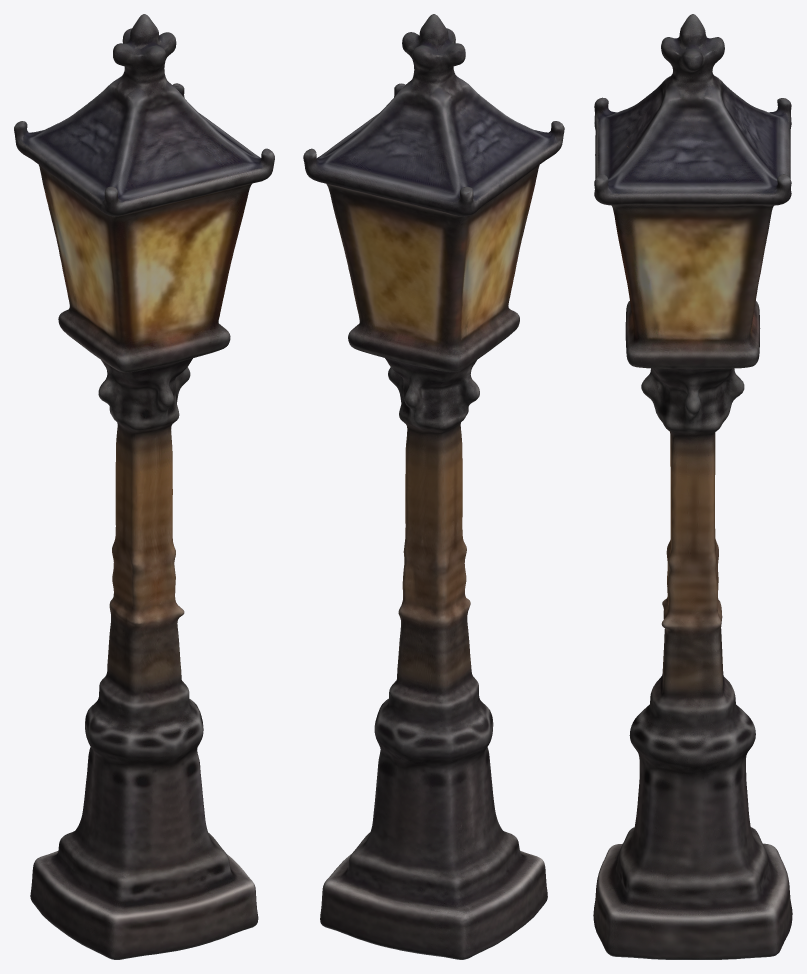
File: Estrutura_md_12.glb
The picture shows the model from 3 angles, left to right: view 1: azimuth 30°, elevation 25°; view 2: azimuth 150°, elevation 25°; view 3: azimuth 270°, elevation 25°; orthographic projection.
Size of the model in its own units: 0.3736 by 1.9 by 0.3773.
Materials: 1 (1 with a texture image).
